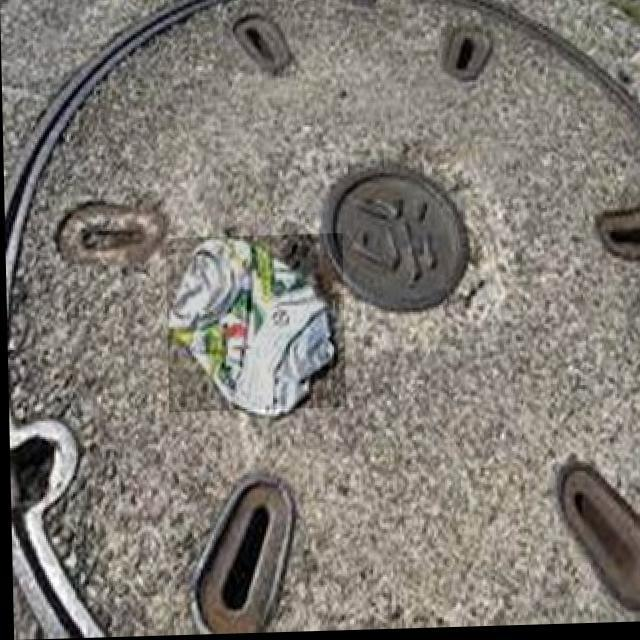trash: (164, 235, 344, 413)
